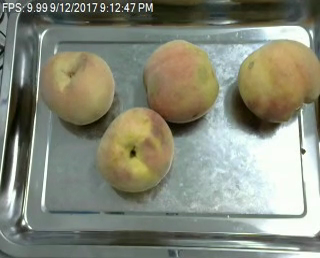Peach: (237, 38, 317, 122), (97, 107, 174, 192), (142, 38, 218, 124), (38, 50, 115, 125)
